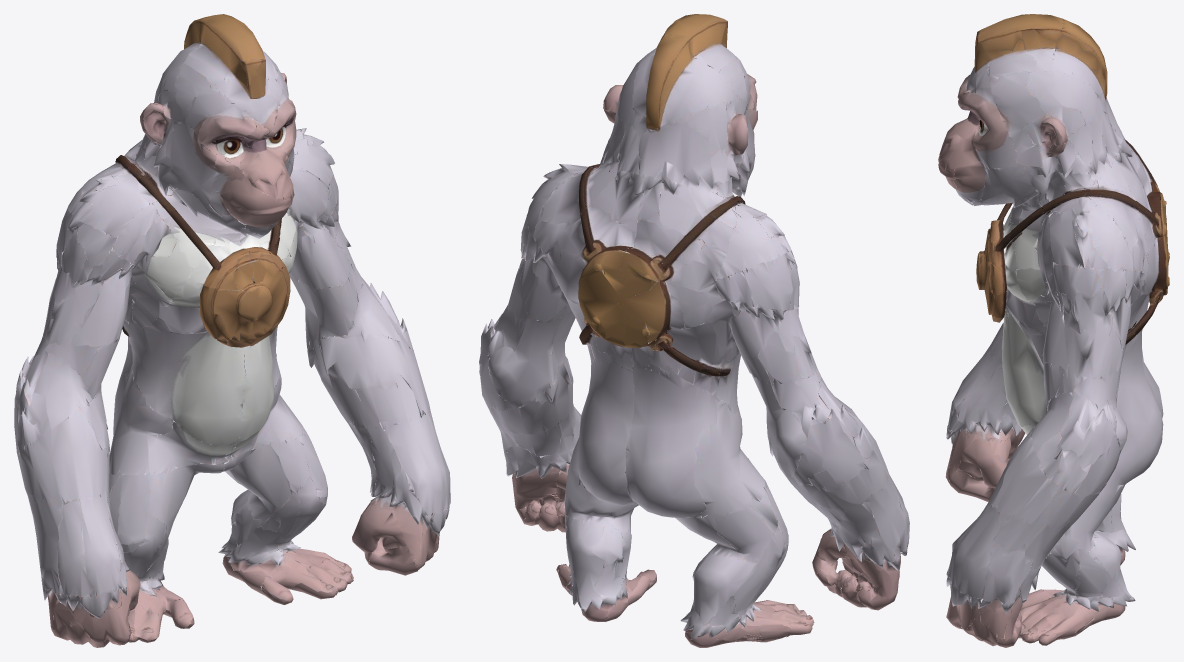
3 views of the same model, side by side, from view 1: azimuth 30°, elevation 25°; view 2: azimuth 150°, elevation 25°; view 3: azimuth 270°, elevation 25° (orthographic). The views are drawn at different scales.
Visible parts, largest first — view 1: Mesh_0; view 2: Mesh_0; view 3: Mesh_0.
Part boxes in pixels (x1,y1,x2,y2): Mesh_0: (14,14,450,647); Mesh_0: (479,14,909,647); Mesh_0: (938,14,1169,647).
Bounding box in the file's own units: 1.35 × 1.9 × 0.6961.
Materials: 1 (1 with a texture image).
